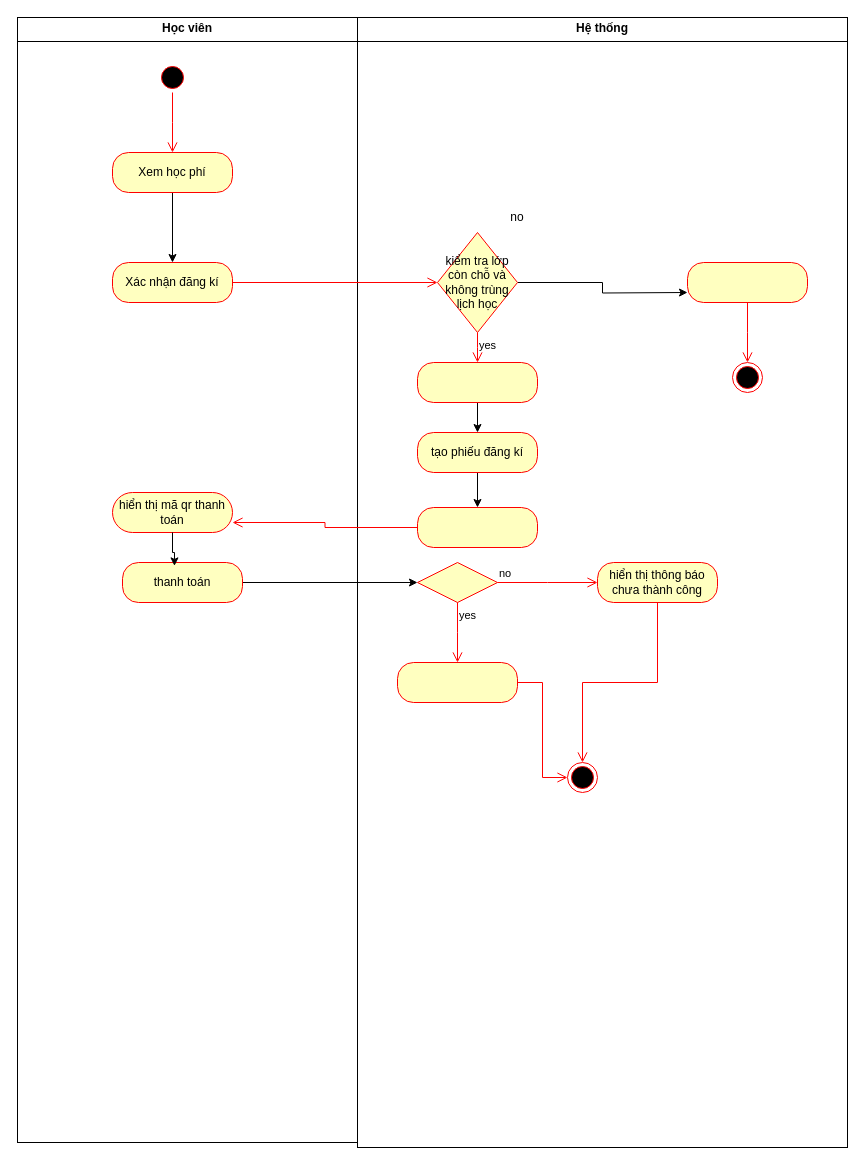
Image size: 865x1165. Some labels were removed from this diagram. The shapes that lost their labels are listed below. From the top down, each one's box as (x1, y1, x2, y2) in pixels, then its label:
(686, 262, 808, 302): quay lại bước 3
(416, 362, 538, 402): giữ chỗ và phòng cho học viên
(416, 506, 538, 548): cấp mã đăng kí
(416, 562, 498, 602): kiểm tra thanh toán thành công chưa
(396, 662, 518, 702): hiển thị thông báo đặt phòng thanh công
